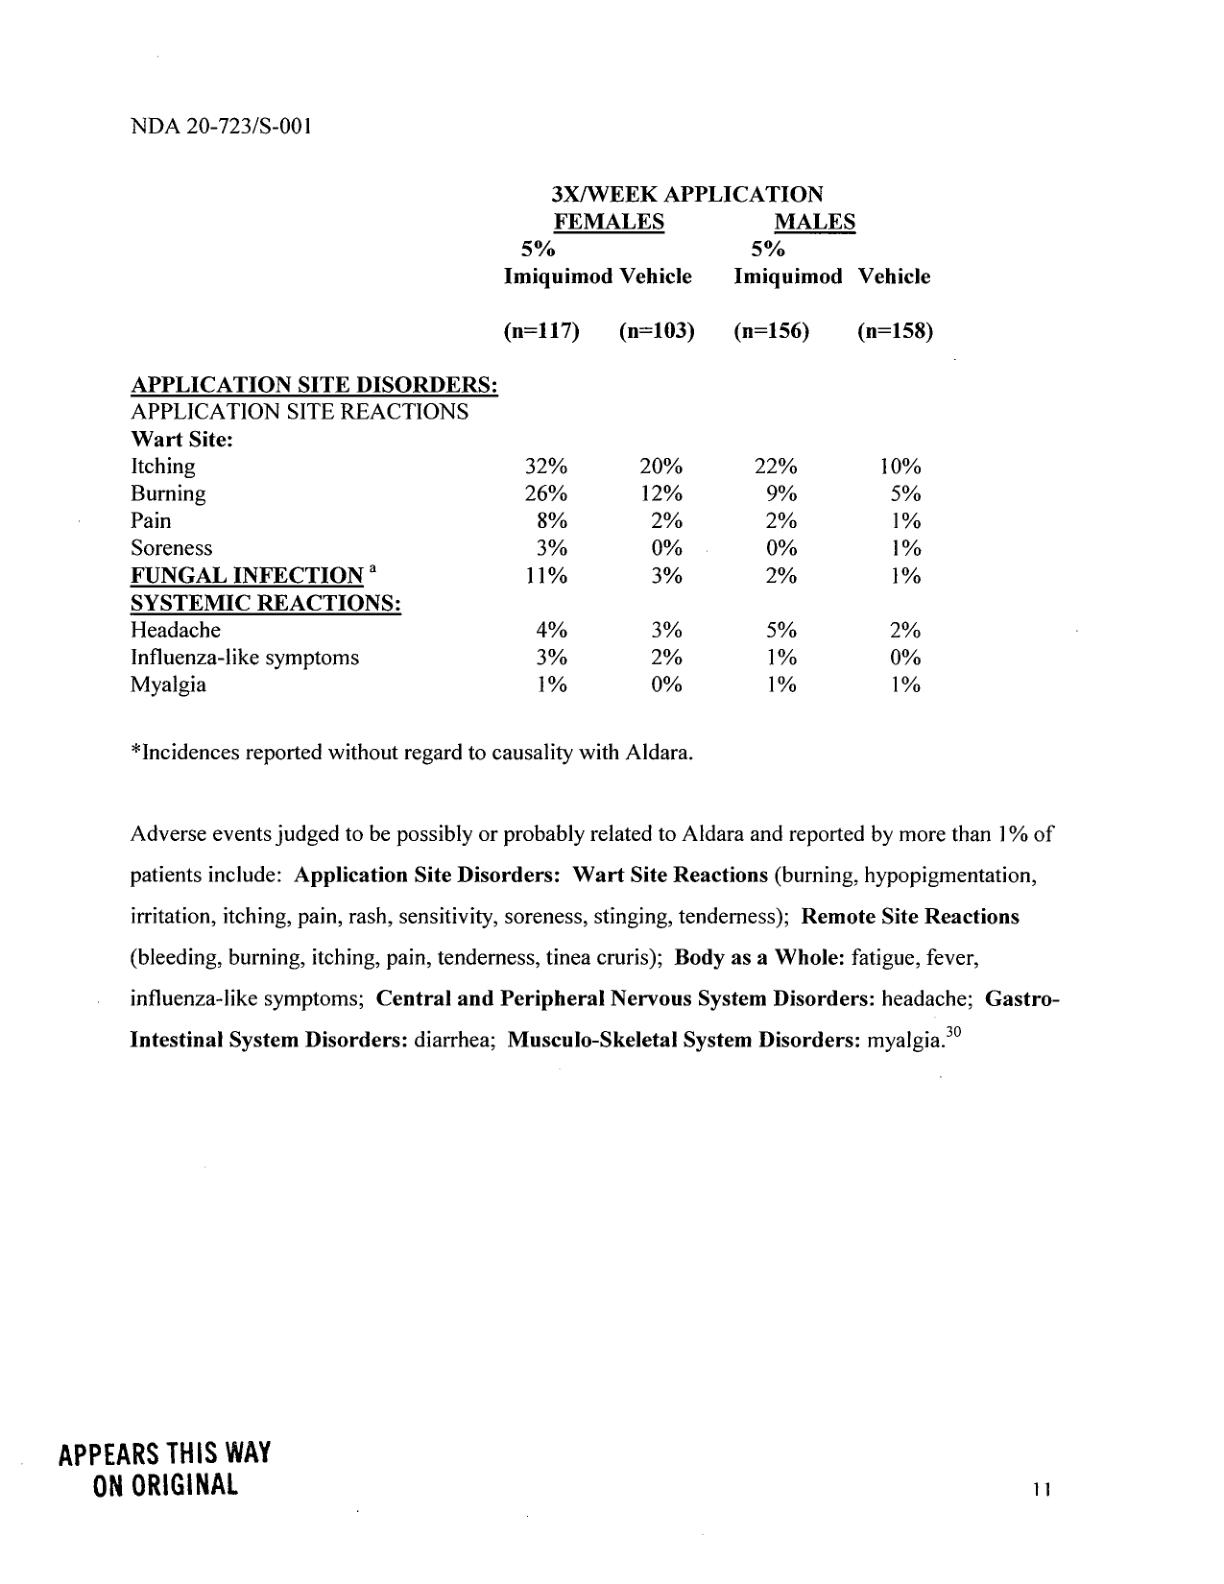nolines: (123, 180, 935, 698)
